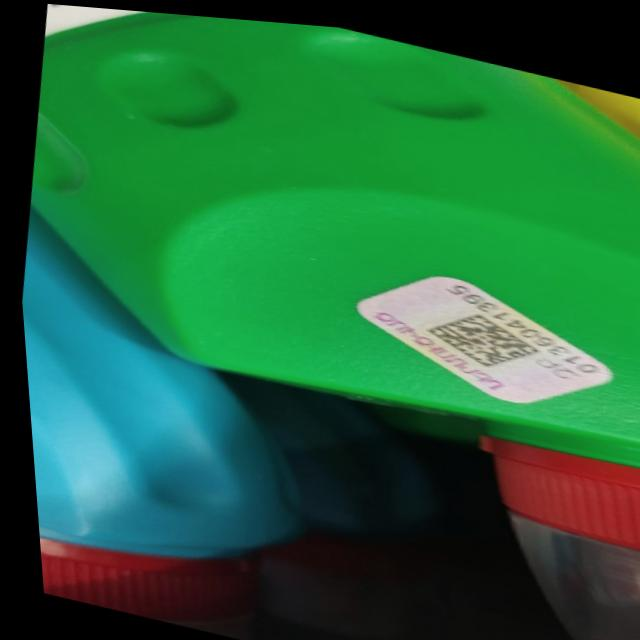datamatrix: (413, 293, 544, 373)
